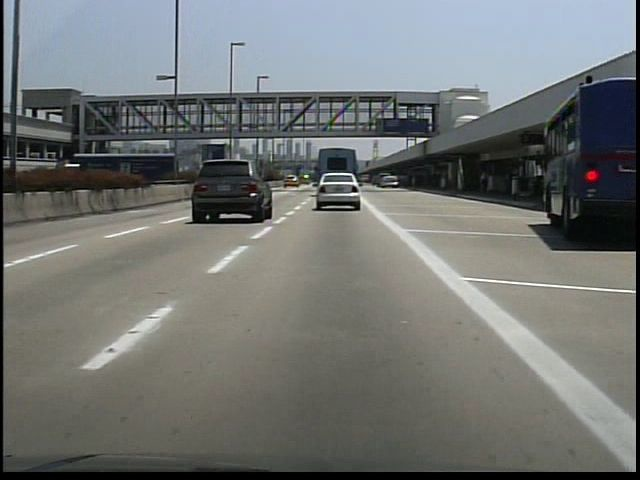person: (475, 165, 496, 202)
